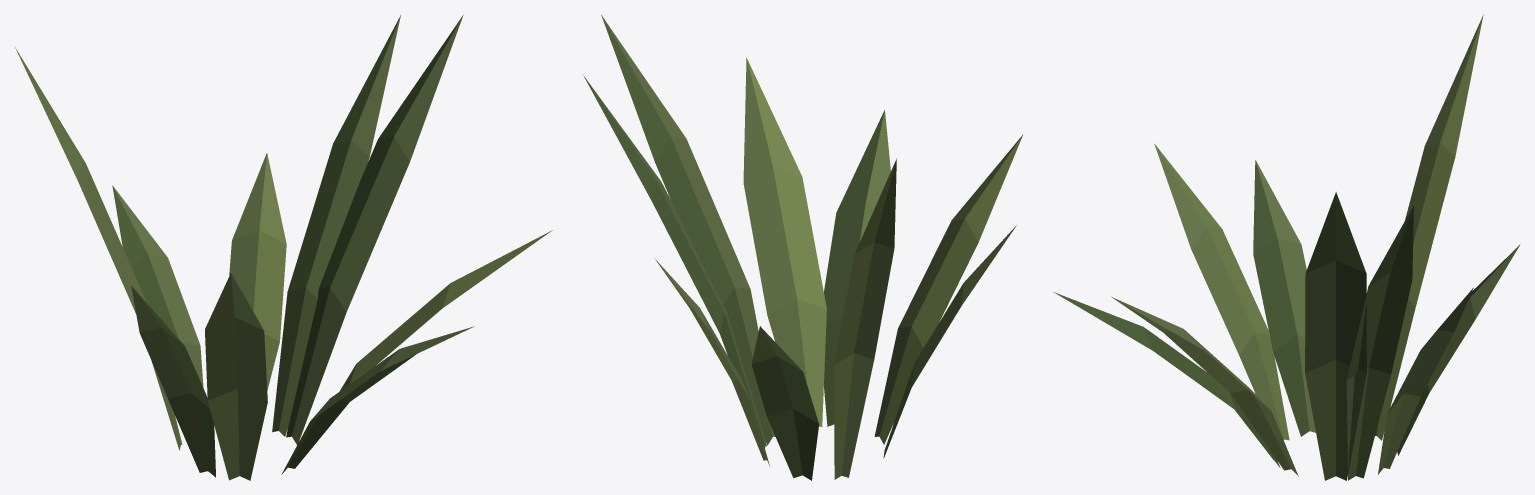
Rendered from grass.glb.
3 renders of one model, left to right at view 1: azimuth 30°, elevation 25°; view 2: azimuth 150°, elevation 25°; view 3: azimuth 270°, elevation 25°, orthographic. The views are drawn at different scales.
Parts seen in each view (by area): view 1: Splayed meadow grass; view 2: Splayed meadow grass; view 3: Splayed meadow grass.
Boxes of the visible parts, x1=… form: Splayed meadow grass: x1=15, y1=15, x2=552, y2=480; Splayed meadow grass: x1=583, y1=14, x2=1023, y2=480; Splayed meadow grass: x1=1053, y1=14, x2=1520, y2=480.
Size of the model in its own units: 0.2418 by 0.2397 by 0.2729.
